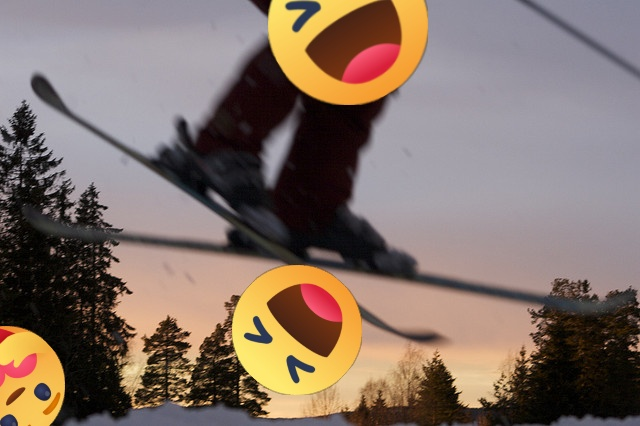care: (0, 326, 65, 426)
haha: (232, 265, 362, 395), (268, 0, 428, 105)
